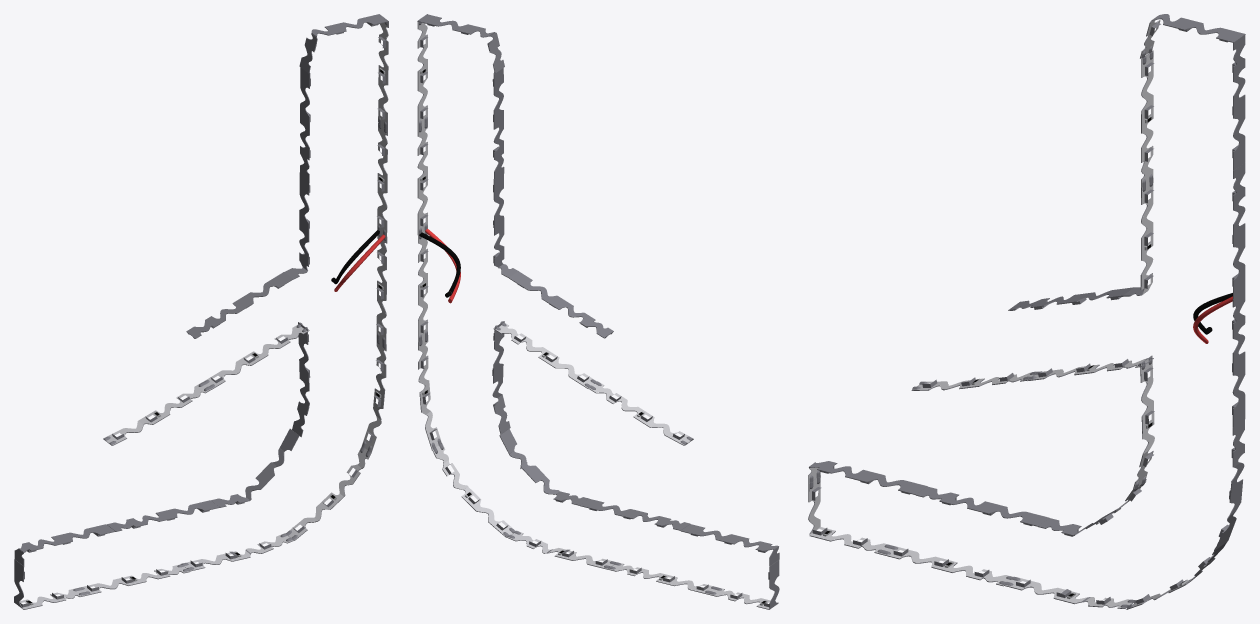
The model's file is fixed001.glb.
3 views of the same model, side by side, from view 1: azimuth 30°, elevation 25°; view 2: azimuth 150°, elevation 25°; view 3: azimuth 330°, elevation 25° (orthographic). The views are drawn at different scales.
Visible parts, largest first — view 1: fixed.001; view 2: fixed.001; view 3: fixed.001.
Part boxes in pixels (x1,y1,x2,y2): fixed.001: [14, 14, 388, 609]; fixed.001: [417, 14, 779, 609]; fixed.001: [808, 14, 1245, 609].
Size of the model in its own units: 36.31 by 48.57 by 3.12.
